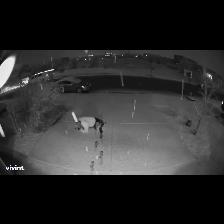person: (76, 117, 105, 138)
